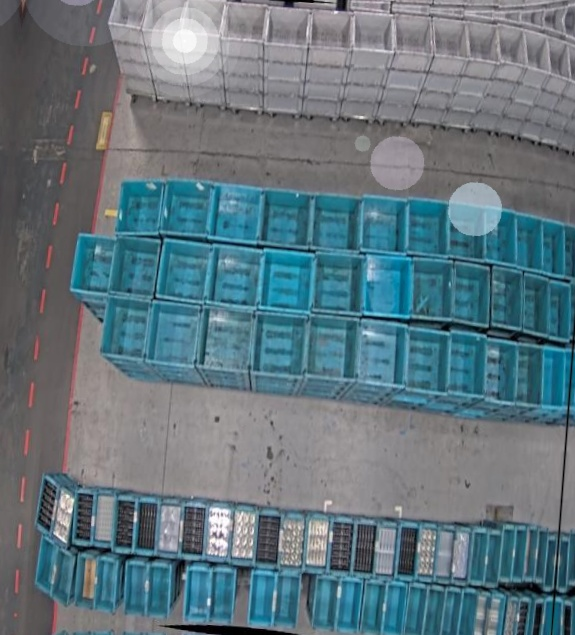Box: (145, 301, 204, 374), (153, 237, 214, 307), (251, 310, 310, 382), (203, 242, 263, 312), (196, 308, 256, 377), (257, 247, 316, 316), (159, 174, 218, 242), (308, 249, 365, 318), (97, 293, 151, 365), (258, 186, 316, 253), (306, 315, 361, 384), (353, 320, 407, 390), (208, 180, 264, 246), (109, 234, 164, 301), (308, 190, 363, 256), (362, 252, 415, 320), (113, 173, 166, 240), (356, 193, 409, 258), (66, 232, 117, 299), (402, 327, 450, 397), (444, 331, 490, 401), (401, 196, 451, 259), (448, 262, 494, 328), (408, 257, 453, 322), (481, 337, 521, 405), (445, 201, 488, 262), (487, 268, 526, 331), (306, 6, 356, 53), (483, 206, 521, 267), (263, 3, 312, 50), (220, 0, 271, 45), (351, 10, 398, 55), (514, 343, 546, 408), (511, 211, 546, 270), (429, 16, 472, 64), (519, 274, 552, 335), (392, 12, 436, 57), (464, 19, 502, 71), (537, 347, 568, 409), (180, 0, 228, 40), (493, 24, 527, 79), (141, 0, 188, 39), (230, 503, 259, 566), (34, 473, 61, 540), (542, 281, 572, 340), (254, 508, 283, 569), (327, 515, 356, 576), (537, 218, 568, 275), (303, 512, 331, 574), (276, 511, 304, 572), (184, 567, 213, 625), (204, 503, 232, 563), (157, 498, 185, 558), (33, 533, 59, 597), (181, 500, 209, 559), (51, 485, 76, 551), (49, 546, 76, 607), (133, 494, 160, 555), (91, 556, 119, 614), (207, 568, 235, 625), (373, 518, 399, 579), (108, 0, 152, 36), (146, 562, 173, 620), (112, 496, 138, 556), (122, 560, 149, 617), (396, 520, 421, 581), (270, 572, 297, 628), (335, 579, 362, 634), (249, 575, 276, 630), (520, 30, 554, 73), (91, 490, 116, 548), (349, 519, 373, 579), (360, 581, 386, 635), (415, 521, 438, 582), (75, 552, 99, 610), (310, 577, 335, 632), (543, 36, 574, 80), (403, 583, 429, 635), (433, 524, 456, 582), (380, 583, 405, 635), (447, 525, 469, 583), (469, 526, 490, 585), (72, 490, 94, 546), (482, 526, 502, 587), (498, 523, 518, 582), (455, 589, 479, 635), (511, 523, 529, 583), (424, 587, 446, 635), (534, 527, 551, 587), (521, 524, 538, 583), (441, 588, 462, 635), (463, 526, 480, 584), (482, 592, 504, 635), (472, 591, 492, 635), (560, 224, 575, 281), (501, 594, 520, 635), (513, 595, 532, 635), (528, 596, 546, 635), (563, 43, 575, 87)
